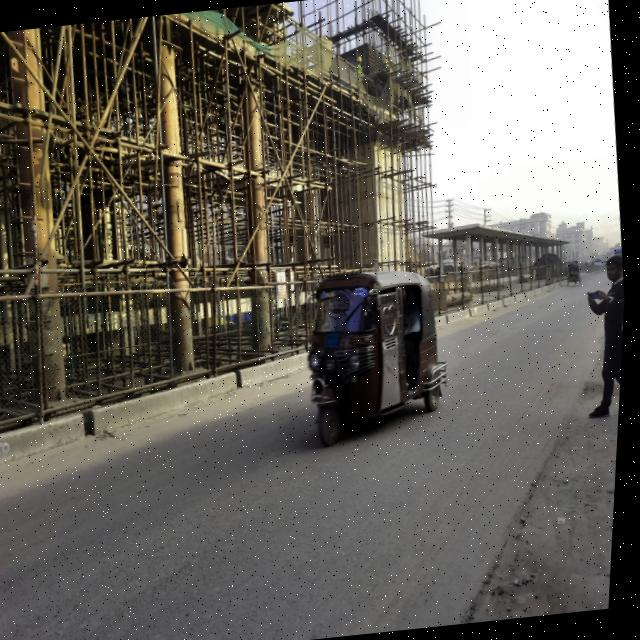cng: (270, 254, 487, 457)
